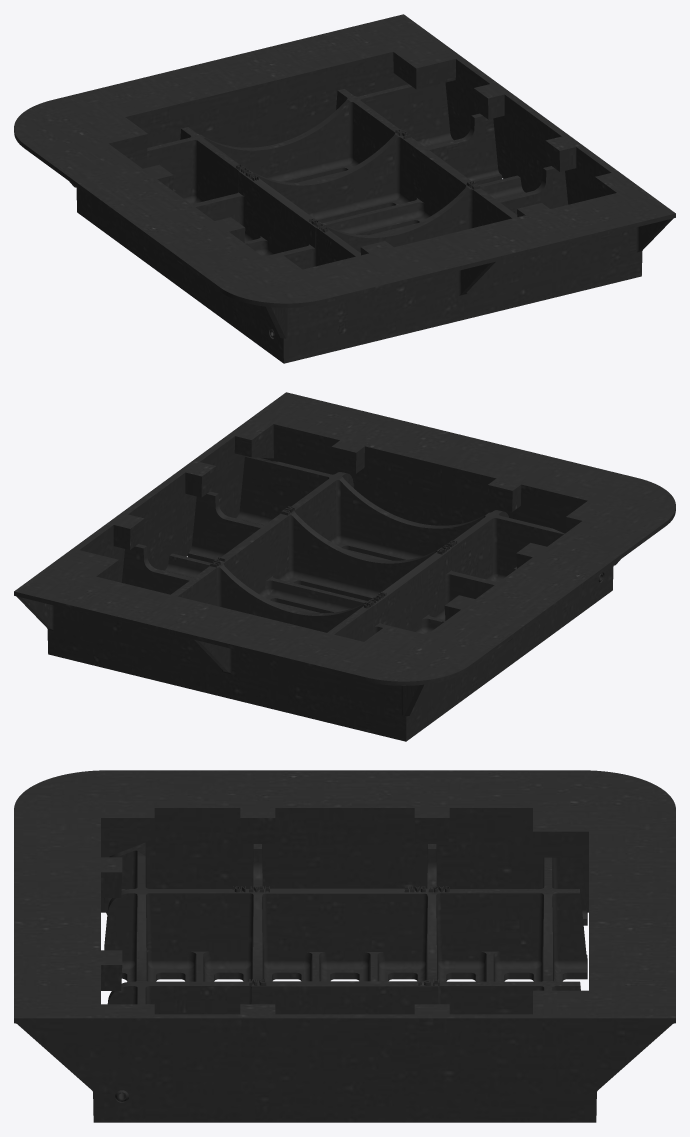
Rendered from 420-x-420-d400-grate-and-frame.glb.
3 views of the same model, one above another, from view 1: azimuth 30°, elevation 25°; view 2: azimuth 150°, elevation 25°; view 3: azimuth 270°, elevation 25° (orthographic). The views are drawn at different scales.
Visible parts, largest first — view 1: NAUO2_high; view 2: NAUO2_high; view 3: NAUO2_high.
Part boxes in pixels (x1,y1,x2,y2): NAUO2_high: [14, 14, 675, 363]; NAUO2_high: [14, 392, 675, 741]; NAUO2_high: [14, 770, 675, 1122].
Bounding box in the file's own units: 0.505 × 0.103 × 0.57.
Materials: 1 (1 with a texture image).
